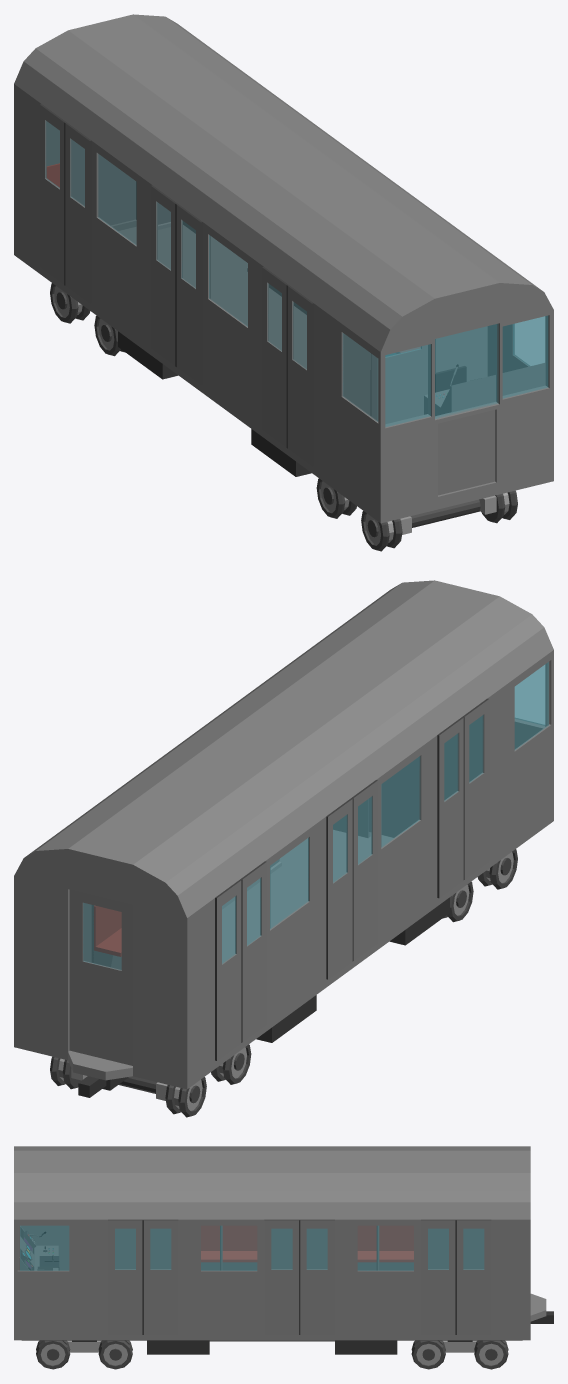
Rendered from Front Train Car.fbx.
The picture shows the model from 3 angles, top to bottom: view 1: azimuth 30°, elevation 25°; view 2: azimuth 150°, elevation 25°; view 3: azimuth 270°, elevation 25°; orthographic projection. The views are drawn at different scales.
Parts seen in each view (by area): view 1: Front Train Car, Door 11, Door 3, Door 7, Door 8, Door 12, Door 4, Driver Door, Rear Door, Train Control Panel, Wheels 1, Wheels 4 (+2 smaller); view 2: Front Train Car, Rear Door, Door 4, Door 8, Door 12, Door 3, Door 11, Door 7, Driver Door, Wheels 4, Wheels 1, Wheels 3 (+1 smaller); view 3: Front Train Car, Door 5, Door 10, Door 9, Door 6, Door 2, Door 1, Train Control Panel, Door 4, Door 8, Door 7, Door 12 (+6 smaller).
Part boxes in pixels (x1,y1,x2,y2): Front Train Car: (14,14,553,534); Door 11: (65,122,91,303); Door 3: (287,285,313,466); Door 7: (176,203,202,384); Door 8: (151,185,177,366); Door 12: (40,104,66,285); Door 4: (262,267,288,447); Driver Door: (370,345,427,423); Rear Door: (72,140,135,225); Train Control Panel: (424,363,545,415); Wheels 1: (361,490,517,551); Wheels 4: (50,283,90,323); Front Train Car: (14,580,553,1100); Rear Door: (69,889,132,1065); Door 4: (437,717,464,898); Door 8: (326,798,352,979); Door 12: (215,879,241,1060); Door 3: (462,698,489,879); Door 11: (240,861,266,1042); Door 7: (351,780,377,960); Driver Door: (368,757,418,837); Wheels 4: (50,1056,206,1117); Wheels 1: (477,849,517,889); Wheels 3: (211,1044,251,1084); Front Train Car: (14,1146,553,1354); Door 5: (264,1219,299,1334); Door 10: (456,1219,491,1334); Door 9: (421,1219,456,1334); Door 6: (299,1219,334,1334); Door 2: (143,1219,178,1334); Door 1: (108,1219,142,1334); Train Control Panel: (19,1226,59,1270); Door 4: (150,1228,171,1269); Door 8: (306,1228,327,1269); Door 7: (271,1228,292,1269); Door 12: (463,1228,484,1269).
Bounding box in the file's own units: 1840 × 2620 × 6900.
